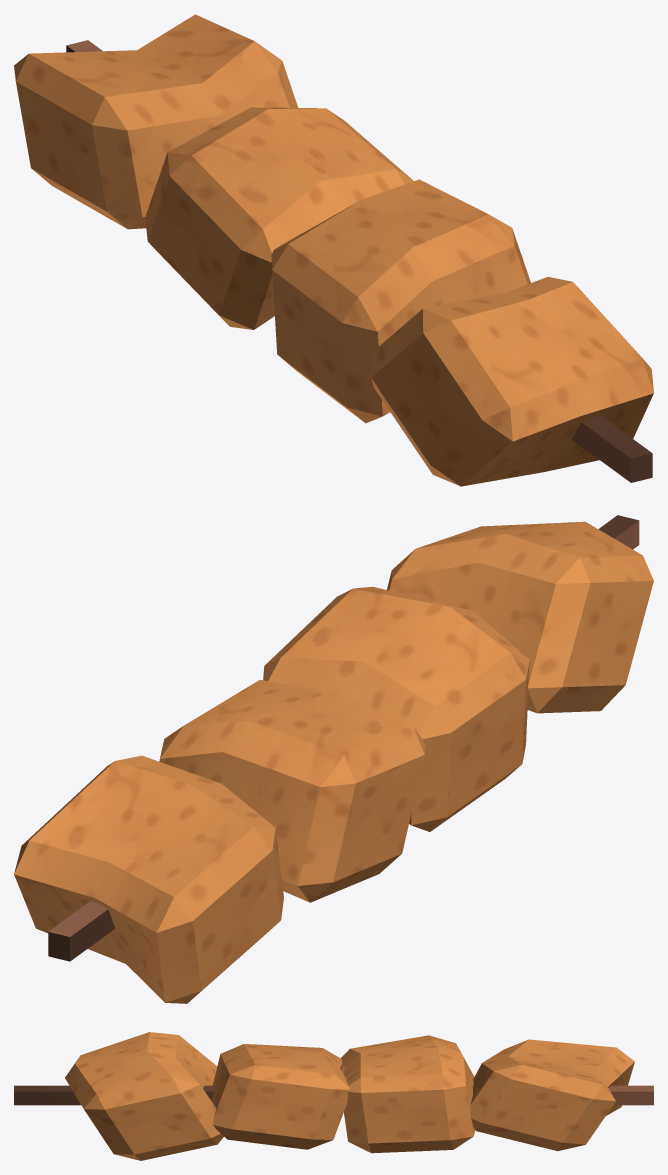
Rendered from DoubleCooked_BrochetteRaw.fbx.
3 renders of one model, top to bottom at view 1: azimuth 30°, elevation 25°; view 2: azimuth 150°, elevation 25°; view 3: azimuth 270°, elevation 25°, orthographic. The views are drawn at different scales.
Visible parts, largest first — view 1: DoubleCooked_BrochetteRaw; view 2: DoubleCooked_BrochetteRaw; view 3: DoubleCooked_BrochetteRaw.
Boxes of the visible parts, x1,y1,x2,y2 form: DoubleCooked_BrochetteRaw: (14,14,653,486); DoubleCooked_BrochetteRaw: (14,515,653,1003); DoubleCooked_BrochetteRaw: (14,1032,653,1160).
Size of the model in its own units: 2.8 by 2.23 by 13.63.
Materials: 1 (1 with a texture image).
